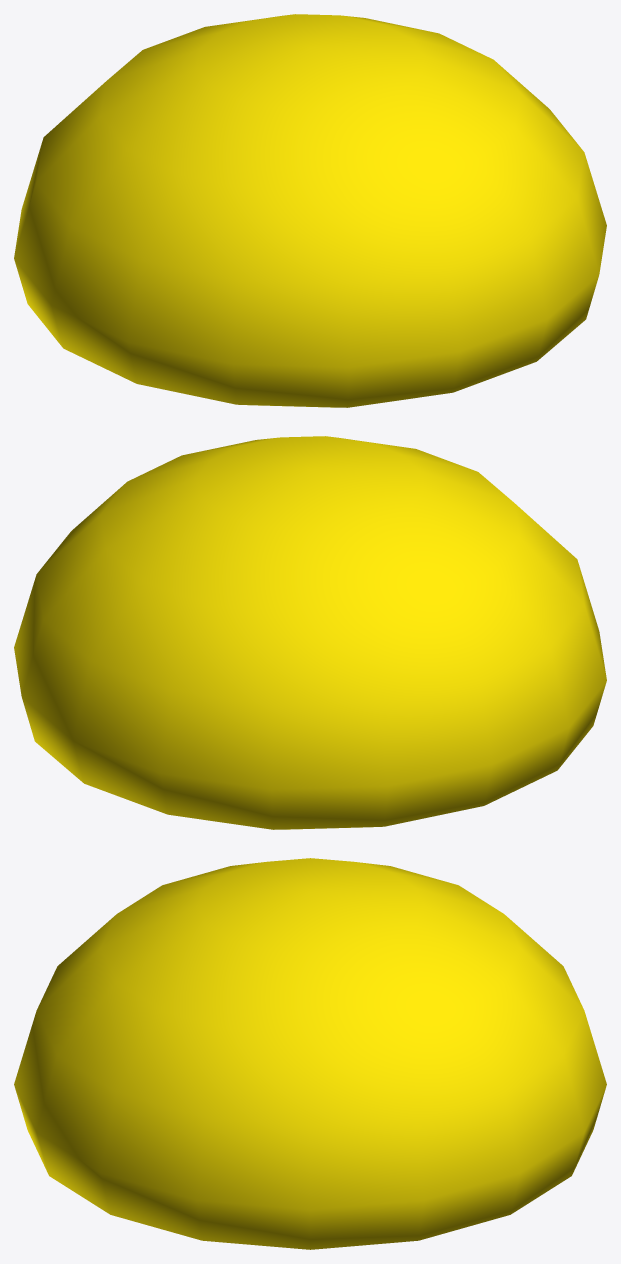
File: Jelly_2.FBX
3 renders of one model, top to bottom at view 1: azimuth 30°, elevation 25°; view 2: azimuth 150°, elevation 25°; view 3: azimuth 270°, elevation 25°, orthographic.
Visible parts, largest first — view 1: Jelly2; view 2: Jelly2; view 3: Jelly2.
Part boxes in pixels (x1=…): Jelly2: x1=14, y1=14, x2=606, y2=407; Jelly2: x1=14, y1=436, x2=606, y2=829; Jelly2: x1=14, y1=858, x2=606, y2=1249.
Size of the model in its own units: 22.13 by 11.58 by 22.13.
